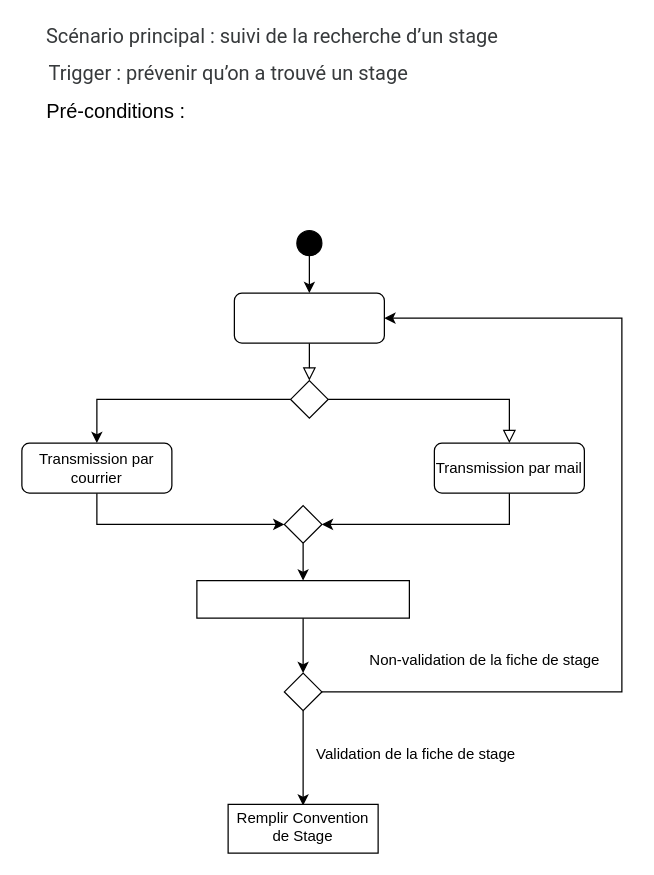
This 654x875 diagram has some shape labels left out. The shapes that lost their labels are listed below. From the top down, each one's centre as x and y in pixels, then its label:
the point at 308,317: Remplir fiche de stage
the point at 302,598: Analyse par le responsable
